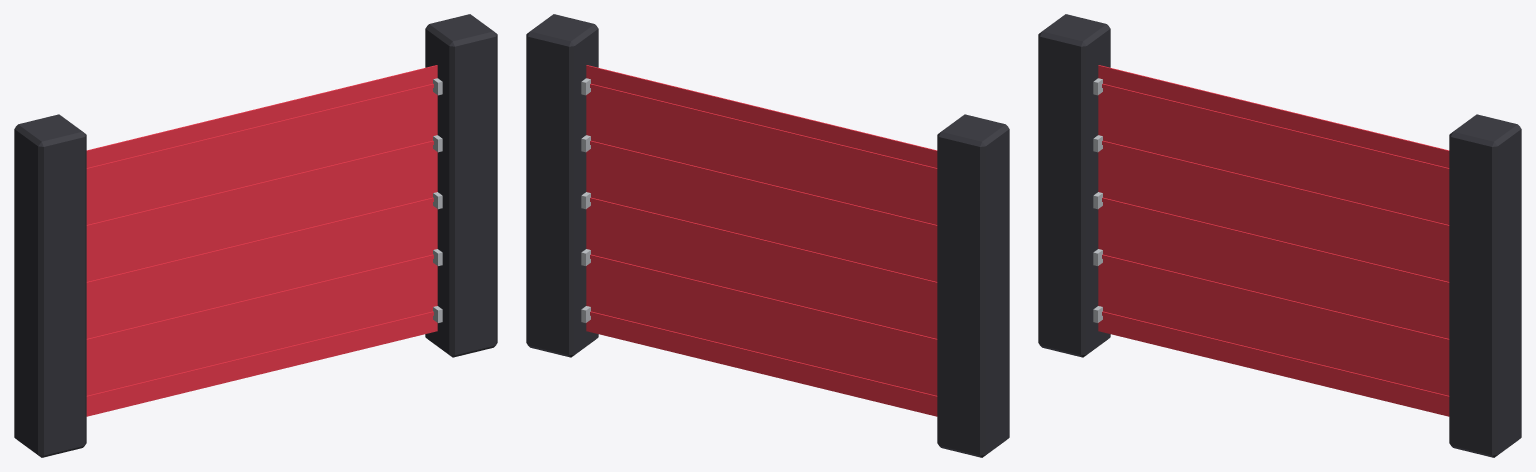
The model's file is LaserDoor.fbx.
3 renders of one model, left to right at view 1: azimuth 30°, elevation 25°; view 2: azimuth 150°, elevation 25°; view 3: azimuth 330°, elevation 25°, orthographic.
Parts seen in each view (by area): view 1: LaserDoor_Lasers, LaserDoor; view 2: LaserDoor_Lasers, LaserDoor; view 3: LaserDoor_Lasers, LaserDoor.
Boxes of the visible parts, x1,y1,x2,y2 form: LaserDoor_Lasers: (86, 65, 437, 416); LaserDoor: (14, 14, 497, 457); LaserDoor_Lasers: (586, 65, 937, 416); LaserDoor: (526, 14, 1009, 457); LaserDoor_Lasers: (1098, 65, 1449, 416); LaserDoor: (1038, 14, 1521, 457).
Bounding box in the file's own units: 15.2 × 10 × 1.6.
Materials: 1 (1 with a texture image).
